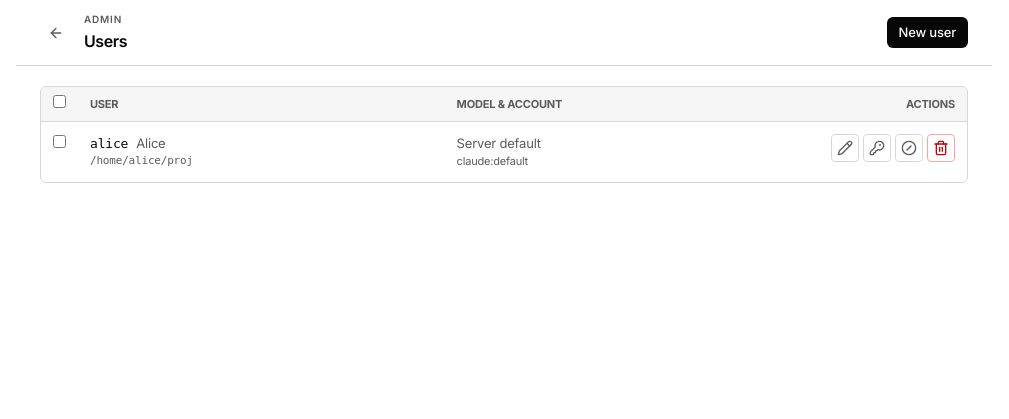
it: AdminUsers batch default-model editing › hides the batch toolbar until a row is selected
This screenshot has width=1009, height=419.
What coordinates should you click on to do the following:
click the checkbox with test id "select-u1"
I would click on:
 (60, 141)
Its box is [53, 134, 66, 148].
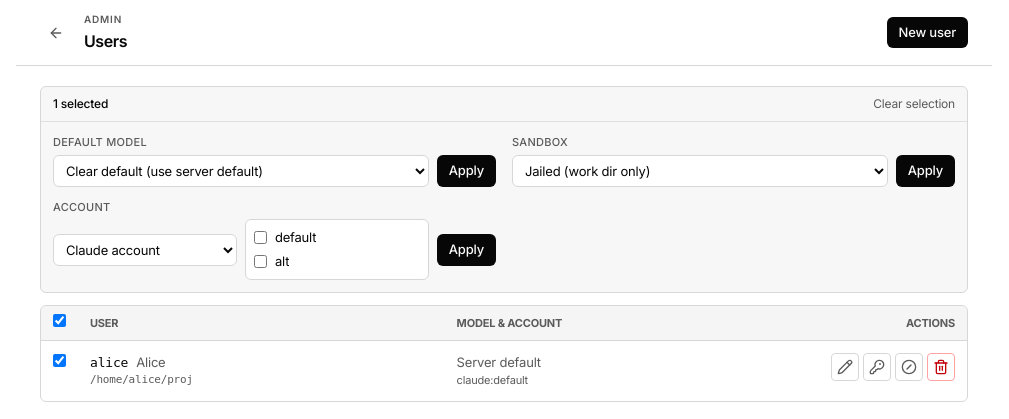
Now the element with test id "batch-model-toolbar" is shown, box [40, 86, 968, 293]
